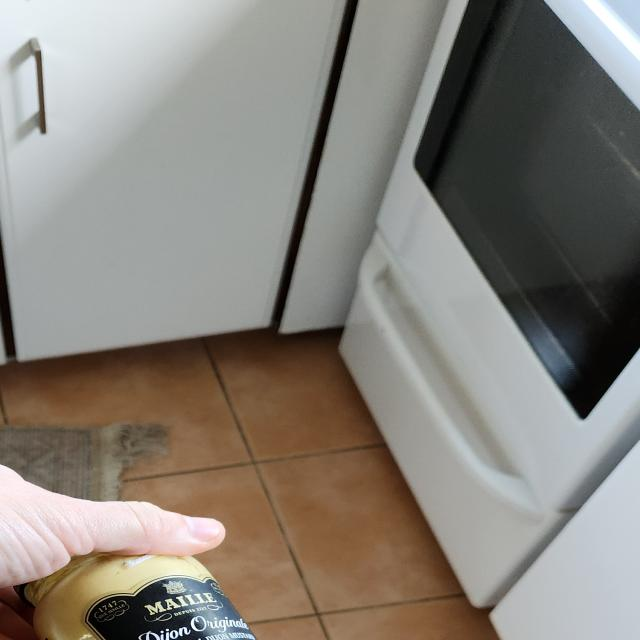mustard: (21, 534, 286, 640)
